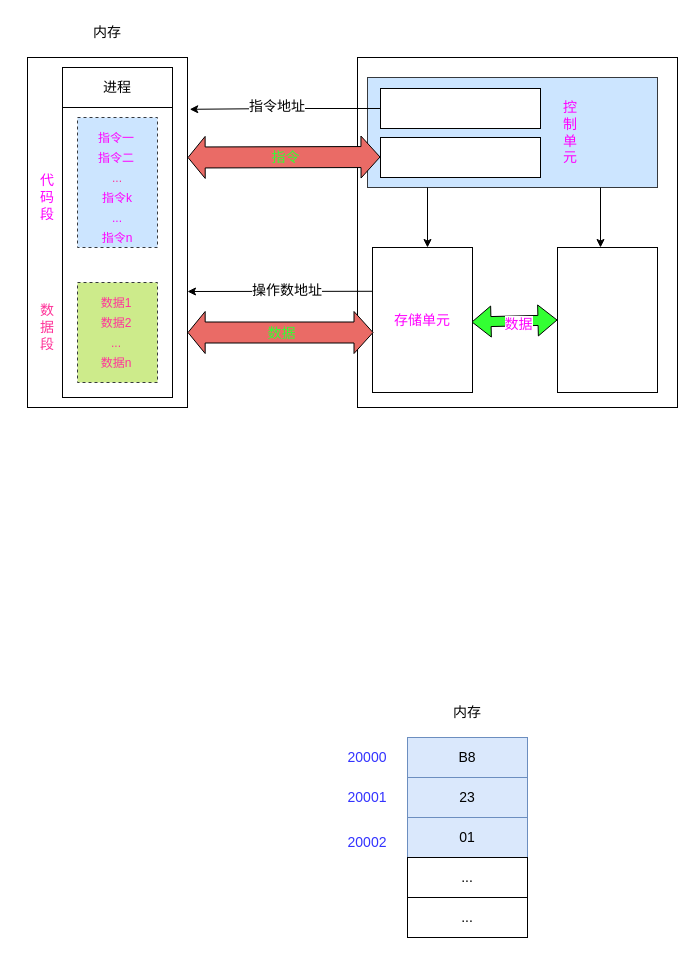
Image size: 695x955. Some labels were removed from this diagram. The centre of each missing label's shape, as x and y in pixels:
"指令寄存器" belongs at point (460, 157).
"指令计数器" belongs at point (460, 108).
"运算单元" belongs at point (607, 319).
